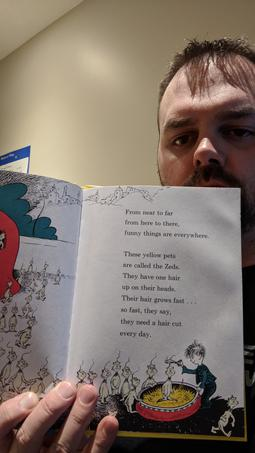text block: (114, 247, 198, 338), (118, 201, 216, 242)
